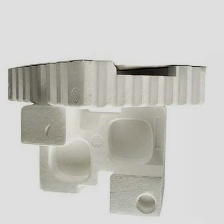foam_box: (15, 101, 172, 222), (3, 55, 211, 113)
